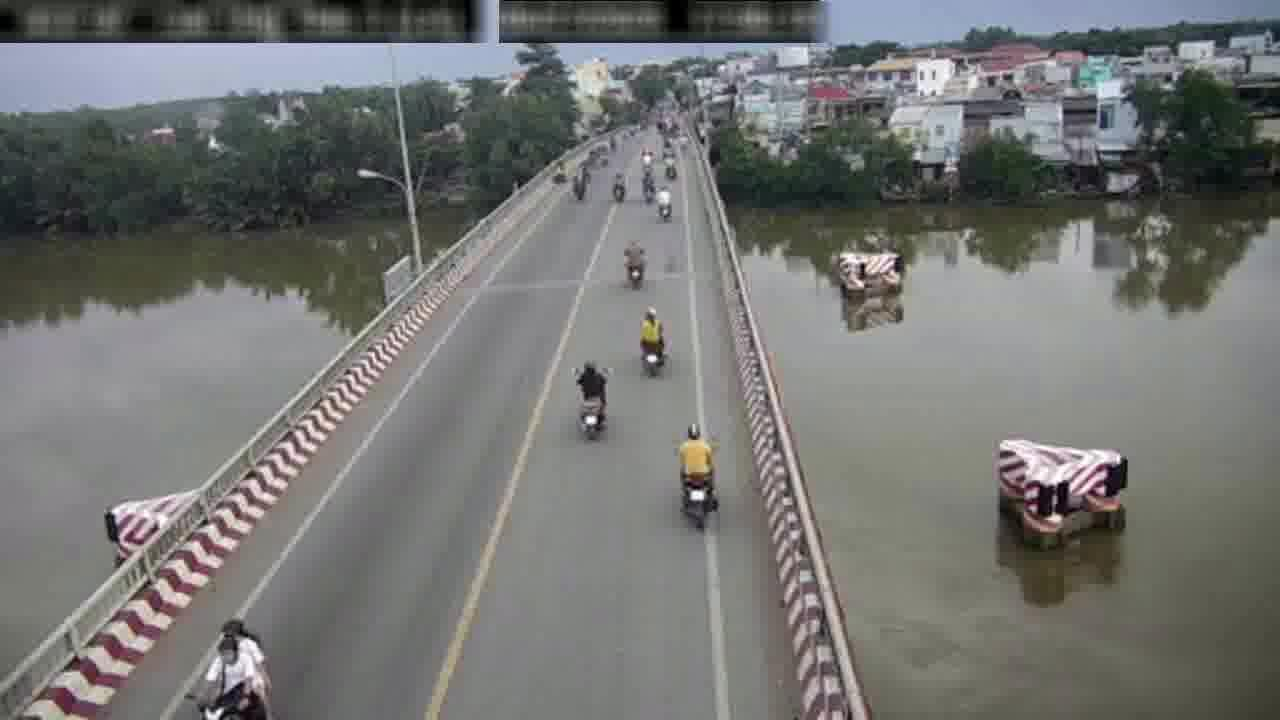motorbike: (202, 612, 265, 720), (679, 421, 718, 534), (574, 355, 609, 438), (634, 301, 666, 381), (622, 238, 649, 290), (610, 166, 627, 204), (655, 184, 672, 218), (641, 167, 656, 205)
